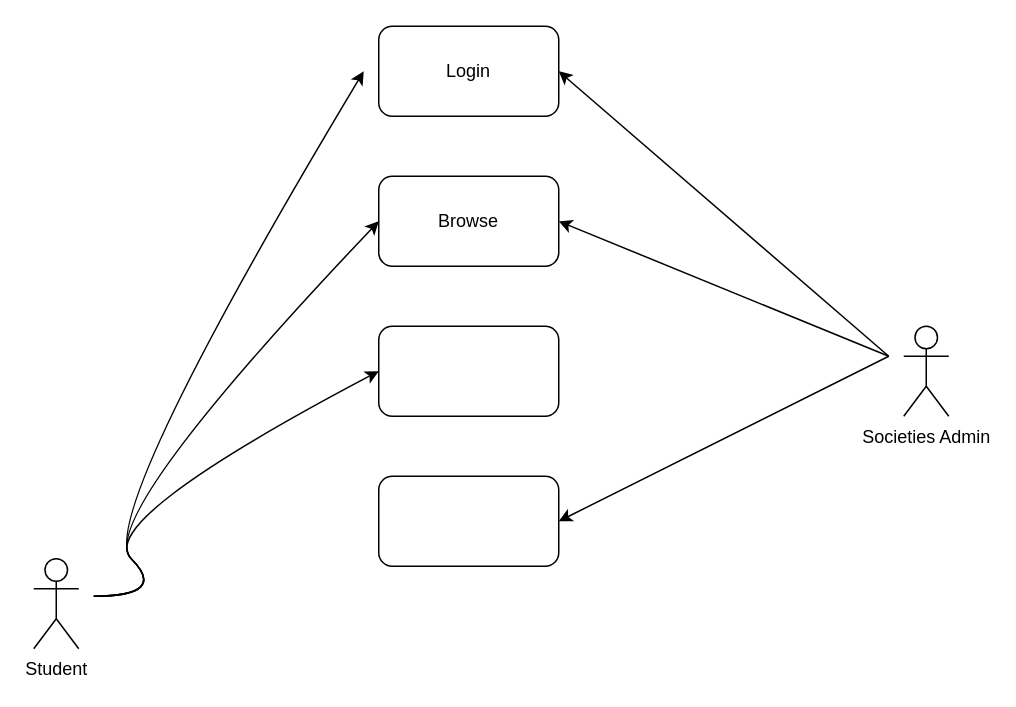
Image size: 1016x707. Some labels were removed from this diagram. Each missing label, with the centre of its shape:
Announcements: point (468, 520)
Join: point (468, 370)
